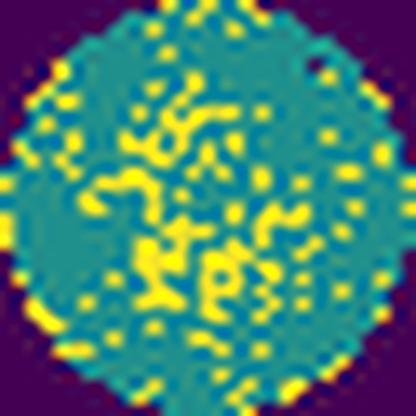Donut: (67, 72, 322, 364)
